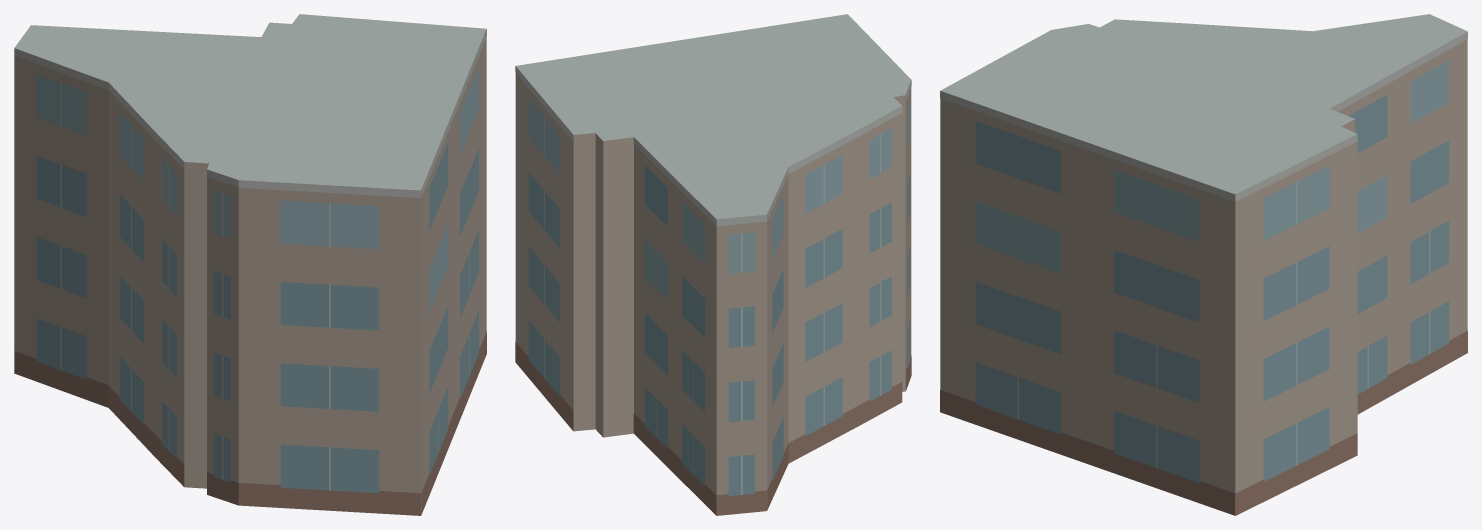
The model's file is survey-upis-32815812.glb.
The picture shows the model from 3 angles, left to right: view 1: azimuth 30°, elevation 25°; view 2: azimuth 150°, elevation 25°; view 3: azimuth 270°, elevation 25°; orthographic projection. The views are drawn at different scales.
Parts seen in each view (by area): view 1: survey-upis-32815812.tmp; view 2: survey-upis-32815812.tmp; view 3: survey-upis-32815812.tmp.
Boxes of the visible parts, <box> form: survey-upis-32815812.tmp: <box>14,14,486,515</box>; survey-upis-32815812.tmp: <box>515,14,911,515</box>; survey-upis-32815812.tmp: <box>940,14,1467,515</box>.
Bounding box in the file's own units: 12.53 × 10.4 × 15.48.
